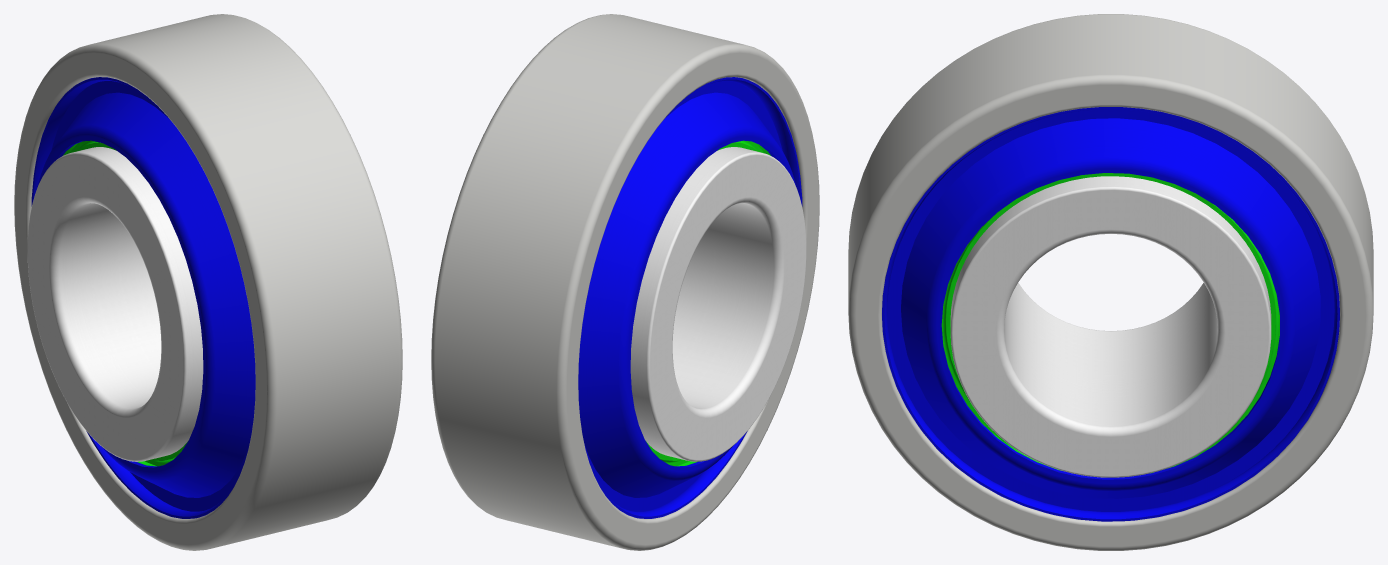
File: 203-KRR2-R3.glb
3 renders of one model, left to right at view 1: azimuth 30°, elevation 25°; view 2: azimuth 150°, elevation 25°; view 3: azimuth 270°, elevation 25°, orthographic.
Parts seen in each view (by area): view 1: matte platinum, texture, texture-4, texture-5; view 2: matte platinum, texture, texture-4, texture-5; view 3: matte platinum, texture-4, texture, texture-5.
Part boxes in pixels (box(x1,y1,x2,y2)): matte platinum: box(14, 14, 402, 550); texture: box(27, 147, 203, 461); texture-4: box(31, 77, 255, 518); texture-5: box(63, 140, 187, 466); matte platinum: box(431, 14, 819, 550); texture: box(630, 147, 806, 461); texture-4: box(578, 77, 802, 518); texture-5: box(646, 140, 770, 466); matte platinum: box(848, 14, 1373, 550); texture-4: box(882, 107, 1339, 521); texture: box(950, 176, 1271, 477); texture-5: box(941, 173, 1279, 473).
Size of the model in its own units: 0.0183 by 0.04 by 0.04.
7 materials, 5 textured.
